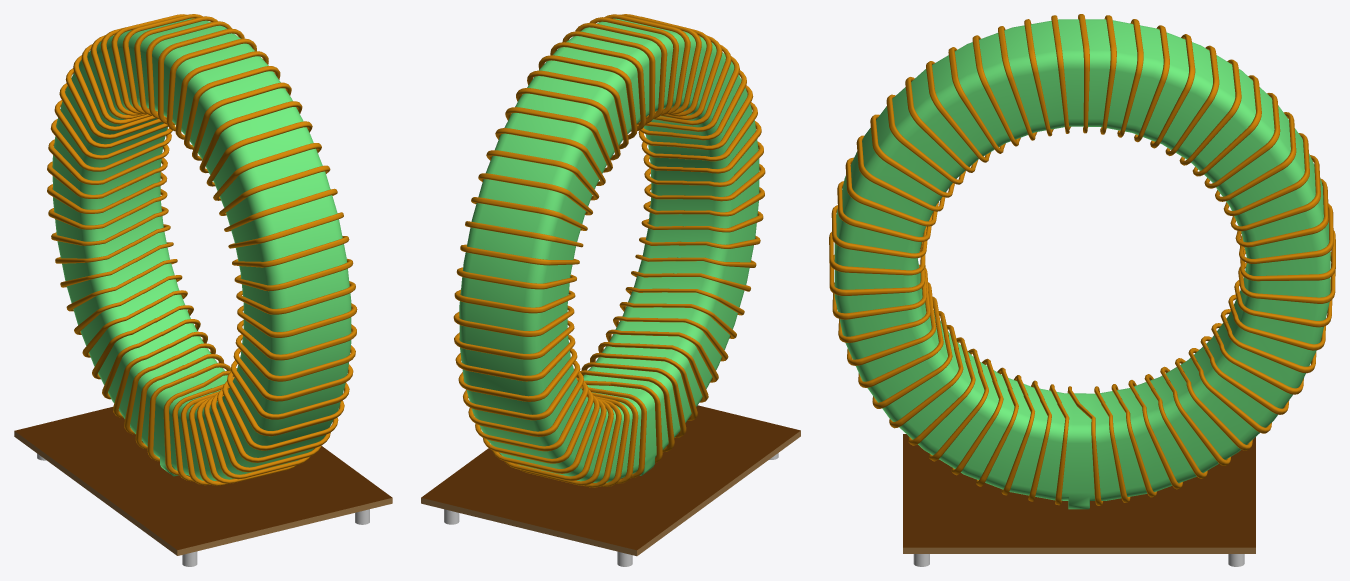
Rendered from Transformator.fbx.
3 renders of one model, left to right at view 1: azimuth 30°, elevation 25°; view 2: azimuth 150°, elevation 25°; view 3: azimuth 270°, elevation 25°, orthographic. The views are drawn at different scales.
Visible parts, largest first — view 1: хуйня внутри катушки, медь, подставка1, подставка2; view 2: хуйня внутри катушки, медь, подставка1, подставка2; view 3: хуйня внутри катушки, медь, подставка1, подставка2.
Boxes of the visible parts, x1,y1,x2,y2 form: хуйня внутри катушки: (52,18,351,480); медь: (47,14,357,485); подставка1: (14,407,392,549); подставка2: (14,431,392,555); хуйня внутри катушки: (459,18,759,482); медь: (453,14,765,487); подставка1: (421,405,800,550); подставка2: (421,430,800,556); хуйня внутри катушки: (834,19,1330,509); медь: (829,14,1335,505); подставка1: (903,434,1255,547); подставка2: (903,547,1255,553).
Size of the model in its own units: 162 by 325 by 306.
